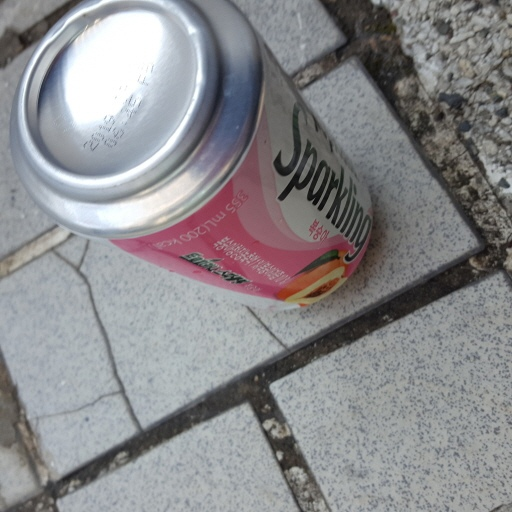Metal_0: (9, 1, 372, 308)
